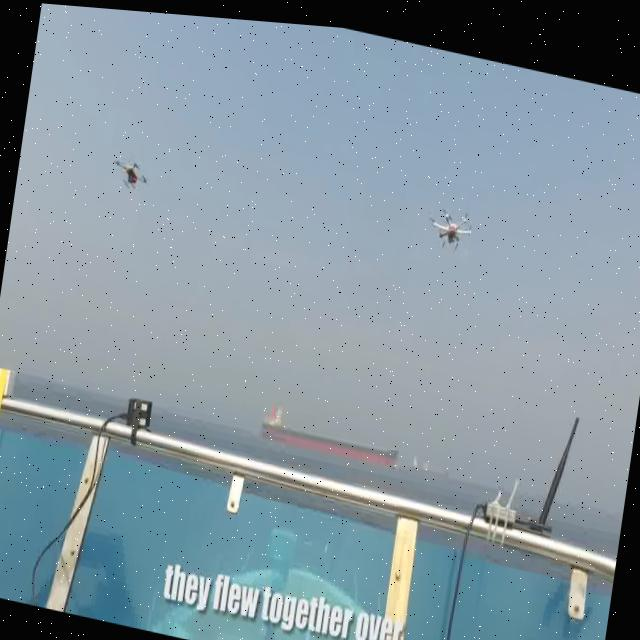drone: (426, 192, 476, 250), (111, 150, 154, 190)
